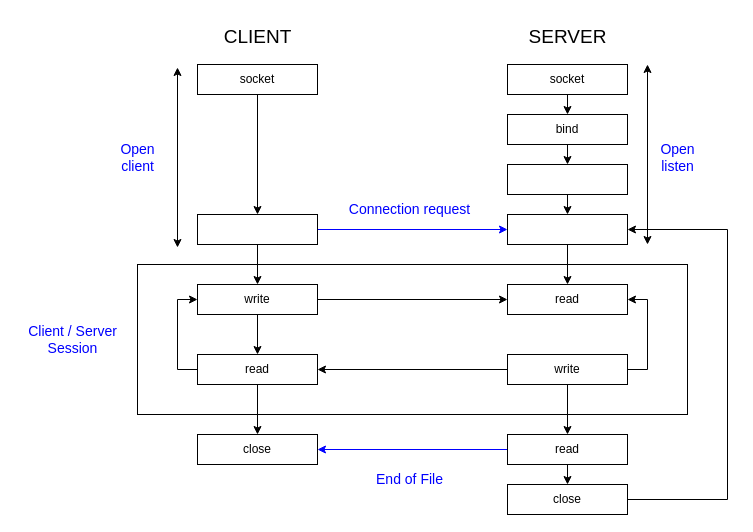
The diagram is 753 pixels wide and 532 high, and some of its shapes have lost their labels. Here are the shapes that lost their labels. From the top down, the centre of each, then its label:
At pixel 567 179: "listen".
At pixel 257 229: "connect".
At pixel 567 229: "accept".
